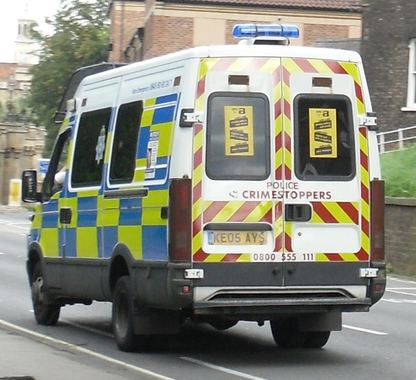ambulance: (21, 22, 388, 349)
